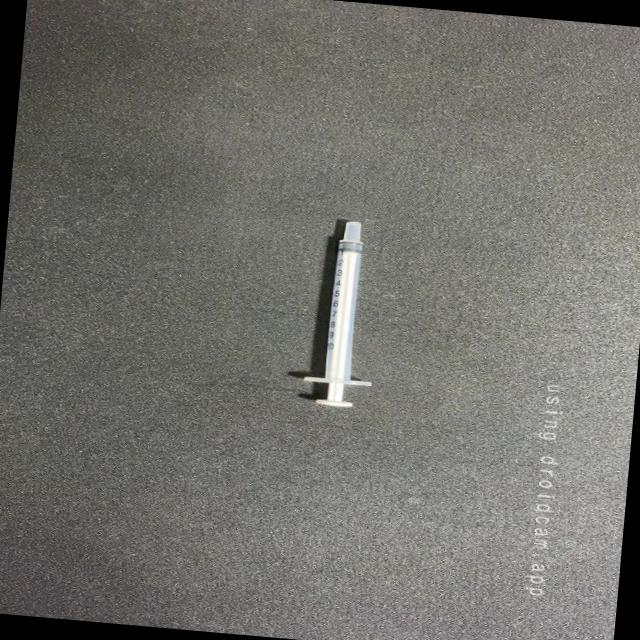syringe: (294, 212, 391, 414)
